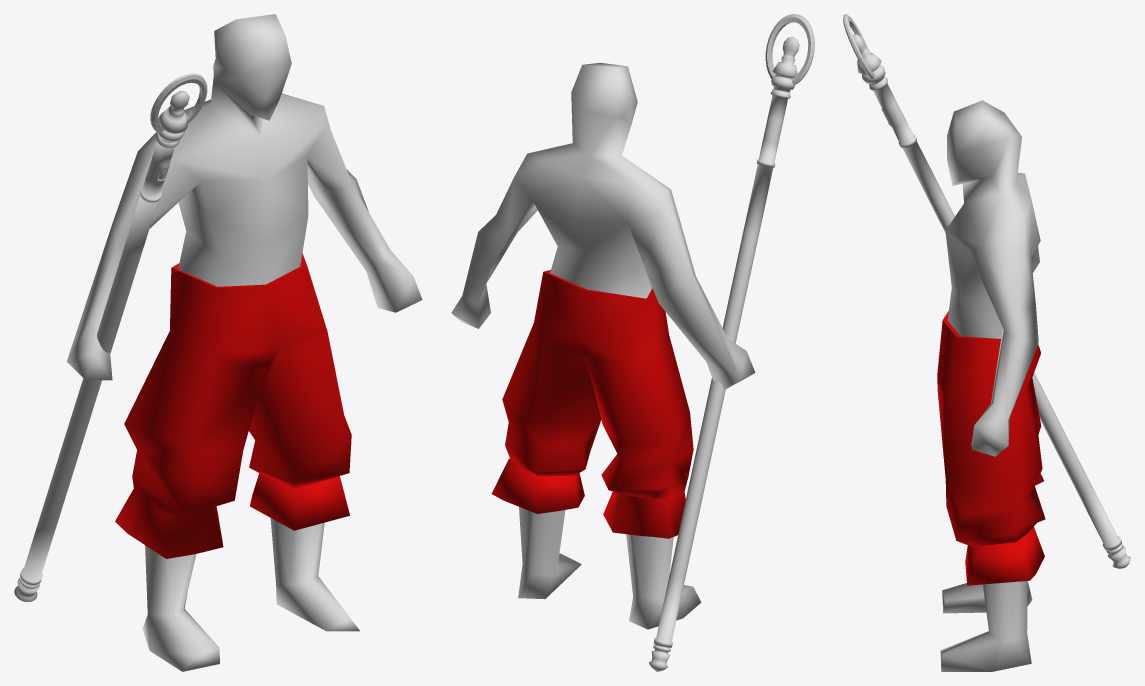
Rendered from GuérisseurEnnemi.fbx.
3 views of the same model, side by side, from view 1: azimuth 30°, elevation 25°; view 2: azimuth 150°, elevation 25°; view 3: azimuth 270°, elevation 25° (orthographic). The views are drawn at different scales.
Parts seen in each view (by area): view 1: Connect_2.001; view 2: Connect_2.001; view 3: Connect_2.001.
Boxes of the visible parts, <box> form: Connect_2.001: <box>14,14,422,671</box>; Connect_2.001: <box>451,14,814,671</box>; Connect_2.001: <box>843,14,1130,671</box>.
Bounding box in the file's own units: 107 × 199 × 92.69.
